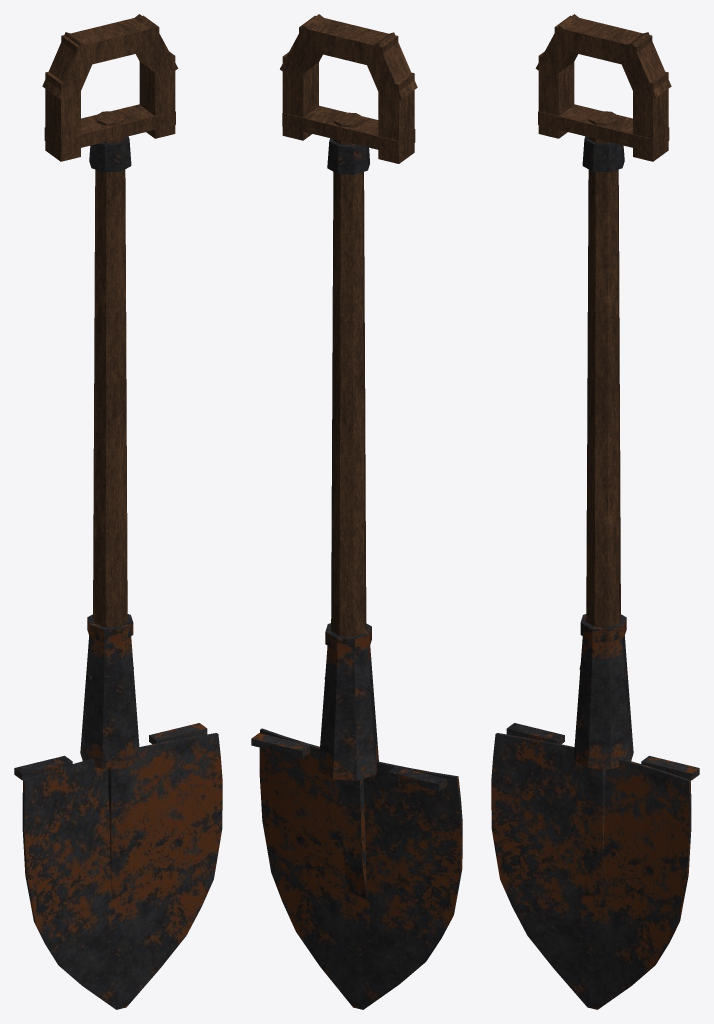
The model's file is shovel_grave_a.glb.
3 views of the same model, side by side, from view 1: azimuth 30°, elevation 25°; view 2: azimuth 150°, elevation 25°; view 3: azimuth 330°, elevation 25° (orthographic).
Parts seen in each view (by area): view 1: shovel_grave_a; view 2: shovel_grave_a; view 3: shovel_grave_a.
Part boxes in pixels (left/top/right/bottom): shovel_grave_a: left=14, top=14, right=222, bottom=1009; shovel_grave_a: left=251, top=14, right=462, bottom=1009; shovel_grave_a: left=491, top=14, right=699, bottom=1009.
Size of the model in its own units: 0.2356 by 1.1 by 0.064.
2 materials, 2 textured.
